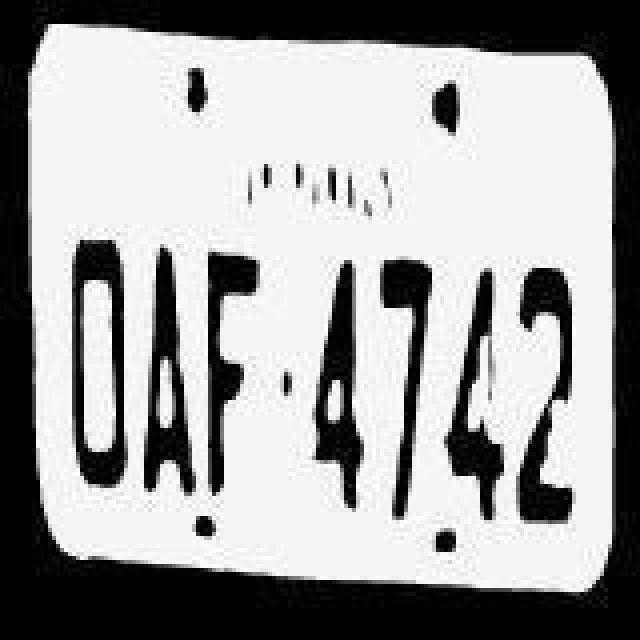2: (518, 246, 594, 538)
4: (306, 250, 382, 534), (446, 228, 514, 524)
7: (382, 238, 450, 530)
A: (128, 228, 192, 508)
F: (188, 218, 260, 502)
O: (36, 214, 124, 506)
